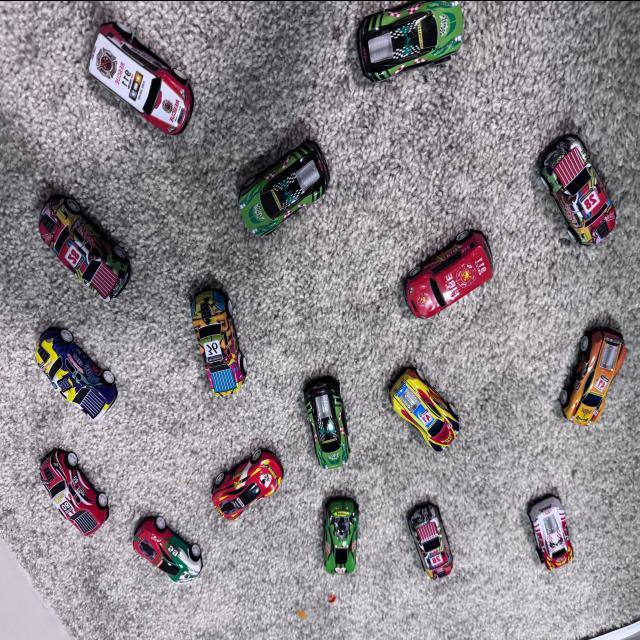Car: (69, 6, 206, 166), (20, 154, 136, 316), (320, 0, 486, 95), (533, 105, 621, 281), (162, 262, 248, 426), (16, 303, 115, 442), (16, 426, 108, 552), (379, 344, 471, 466), (504, 450, 578, 596), (385, 218, 505, 308), (217, 139, 329, 234), (376, 478, 462, 598), (291, 348, 365, 471), (548, 333, 626, 440), (133, 502, 205, 617), (298, 495, 374, 599), (197, 440, 285, 522)
